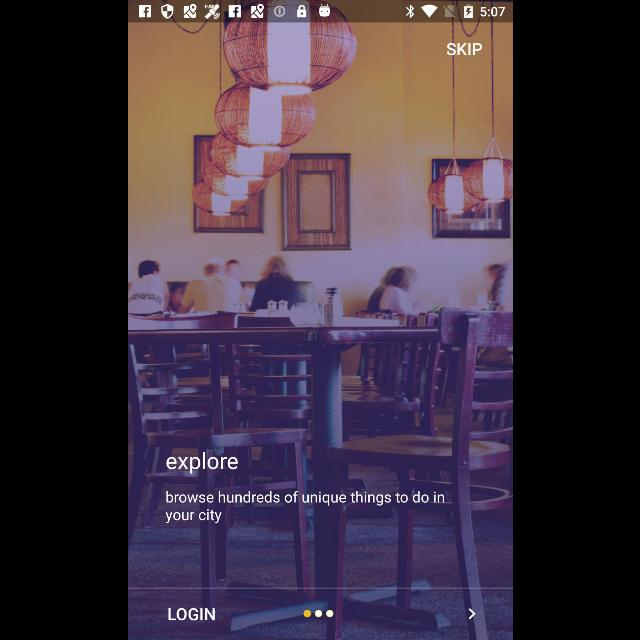backgroundimage: (128, 22, 512, 640)
icon: (468, 608, 474, 620)
pageindicator: (302, 609, 334, 617)
text: (164, 491, 443, 524), (166, 452, 238, 474), (168, 608, 215, 620), (446, 44, 482, 56)
uppertaskbar: (128, 1, 512, 23)
